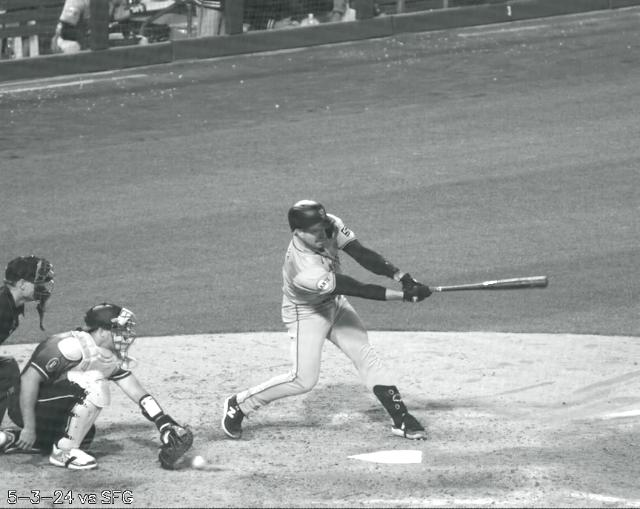baseball bat: (428, 276, 548, 294)
sports ball: (190, 457, 208, 473)
